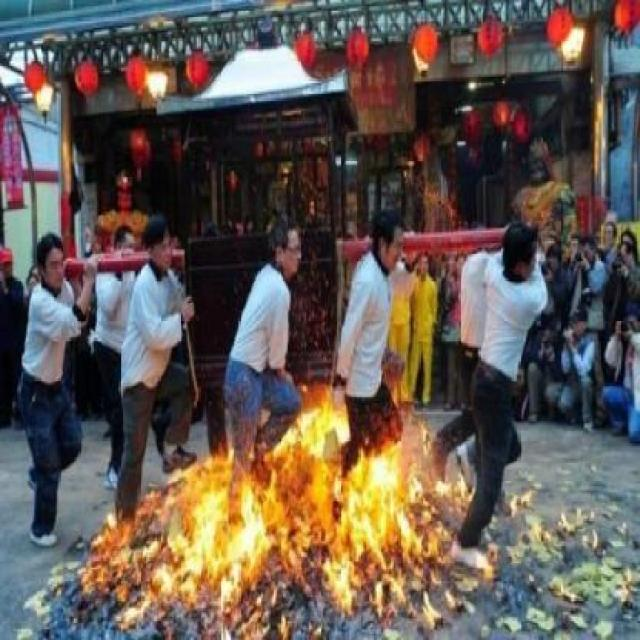Fire: (20, 372, 492, 638)
